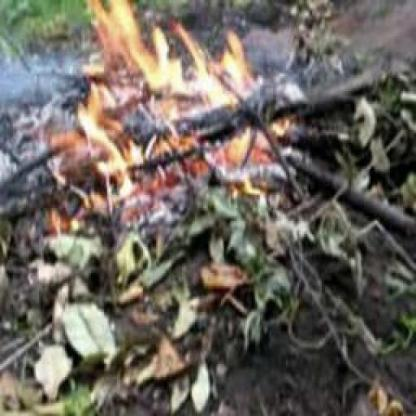fire: (47, 0, 294, 255)
